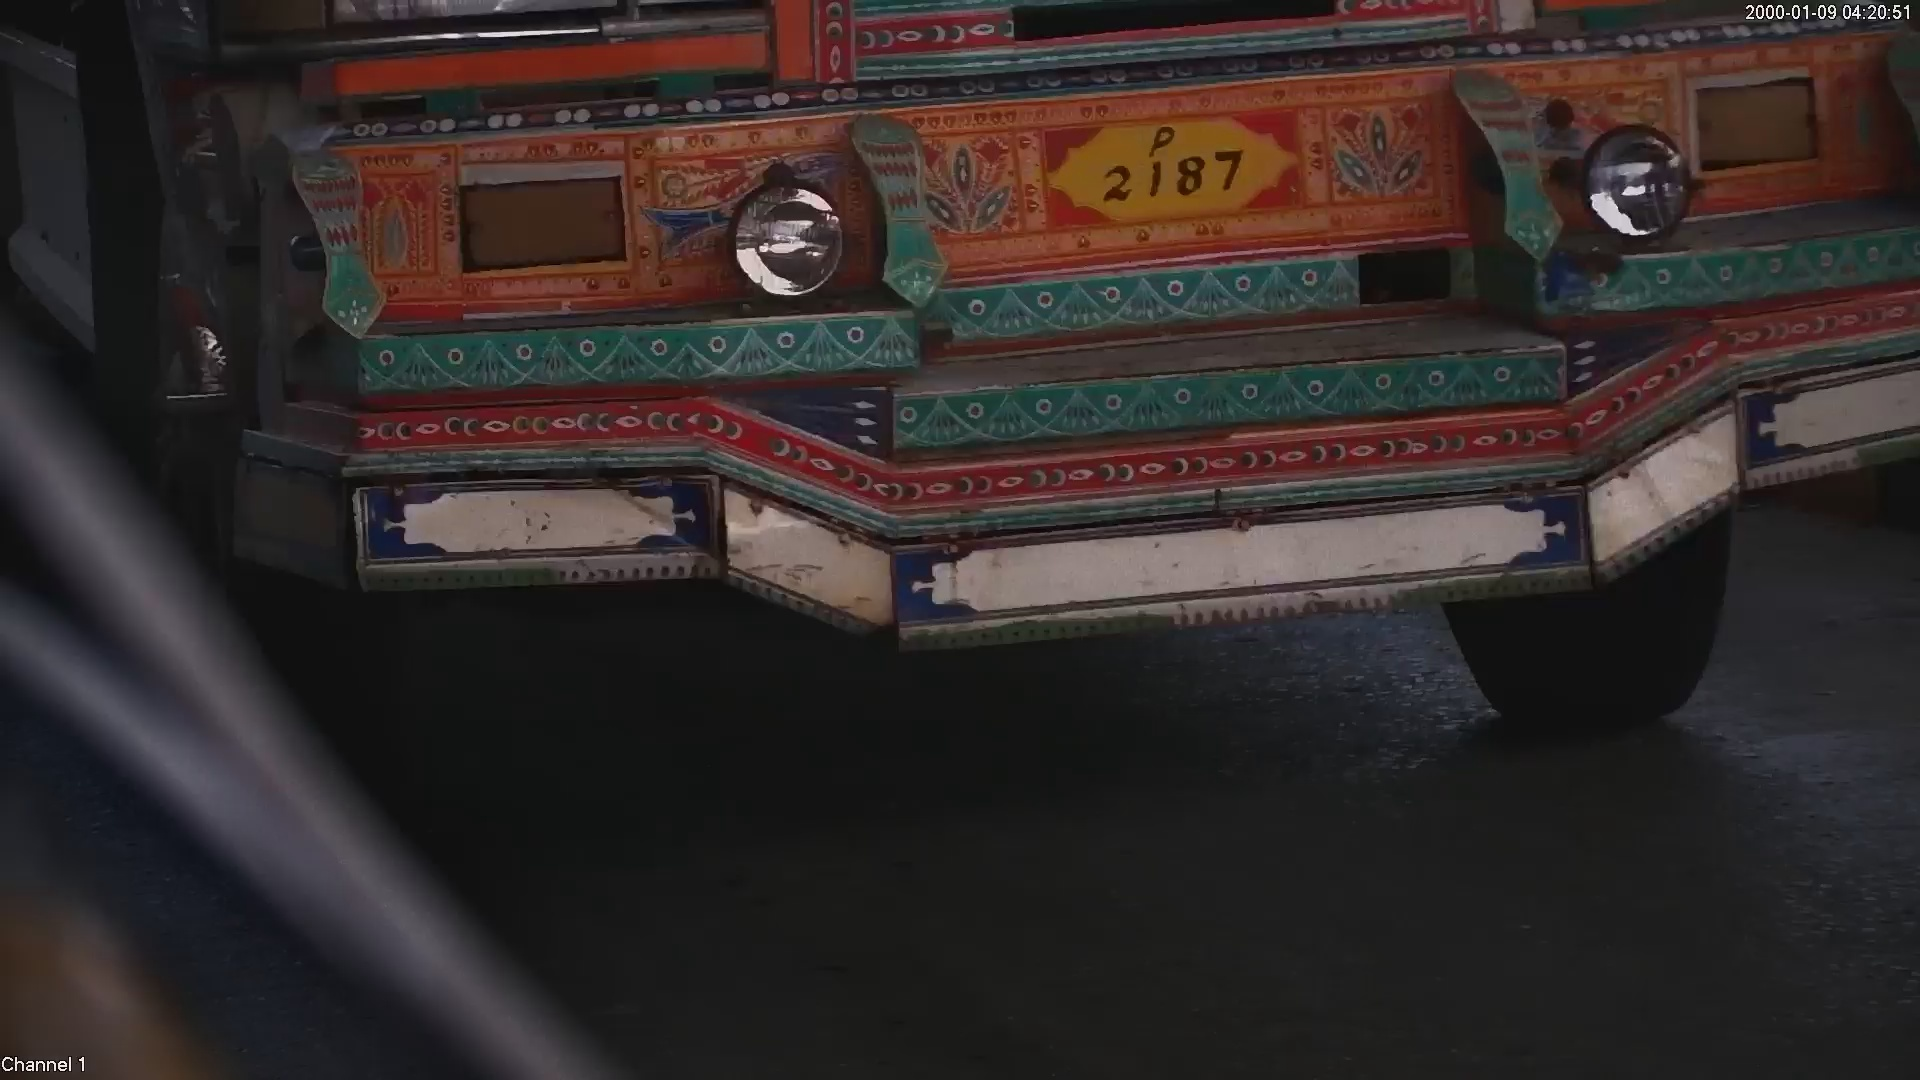Number_Plate: (1023, 101, 1315, 233)
Undefined: (347, 162, 850, 312), (1565, 90, 1891, 236)
